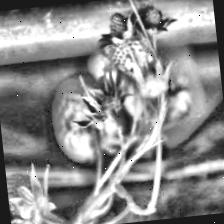Gray Mold: (65, 66, 136, 130)
